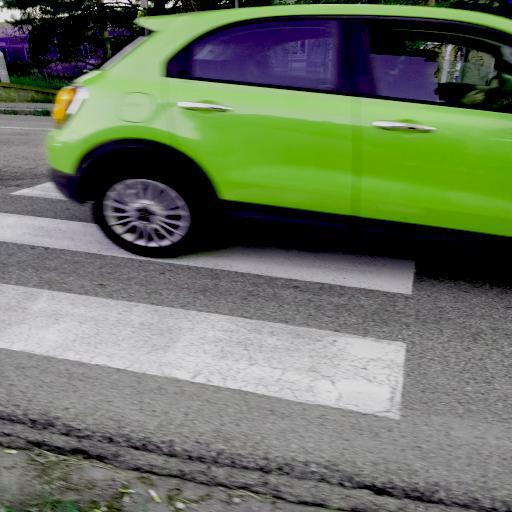crosswalk: (0, 166, 442, 310)
